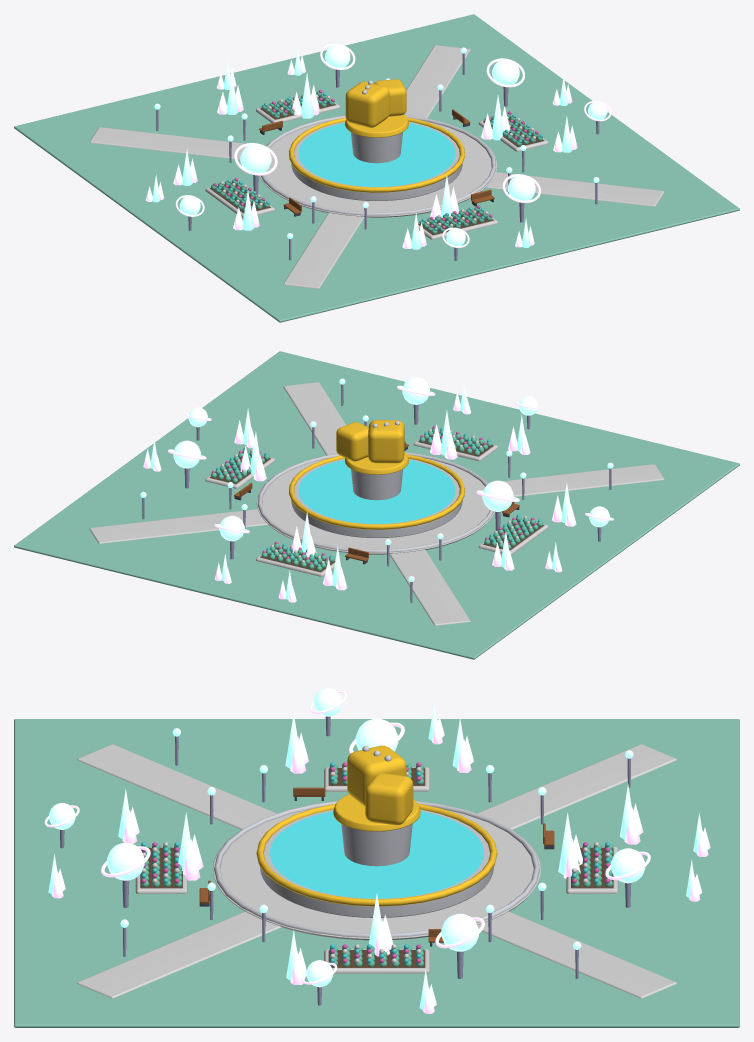
File: centre.glb
The picture shows the model from 3 angles, top to bottom: view 1: azimuth 30°, elevation 25°; view 2: azimuth 150°, elevation 25°; view 3: azimuth 270°, elevation 25°; orthographic projection. The views are drawn at different scales.
Visible parts, largest first — view 1: Cube; view 2: Cube; view 3: Cube.
Boxes of the visible parts, box(x1,y1,x2,y2) form: Cube: box(14, 14, 739, 322); Cube: box(14, 351, 739, 659); Cube: box(14, 688, 739, 1027).
Size of the model in its own units: 5.9 by 1.06 by 5.9.
